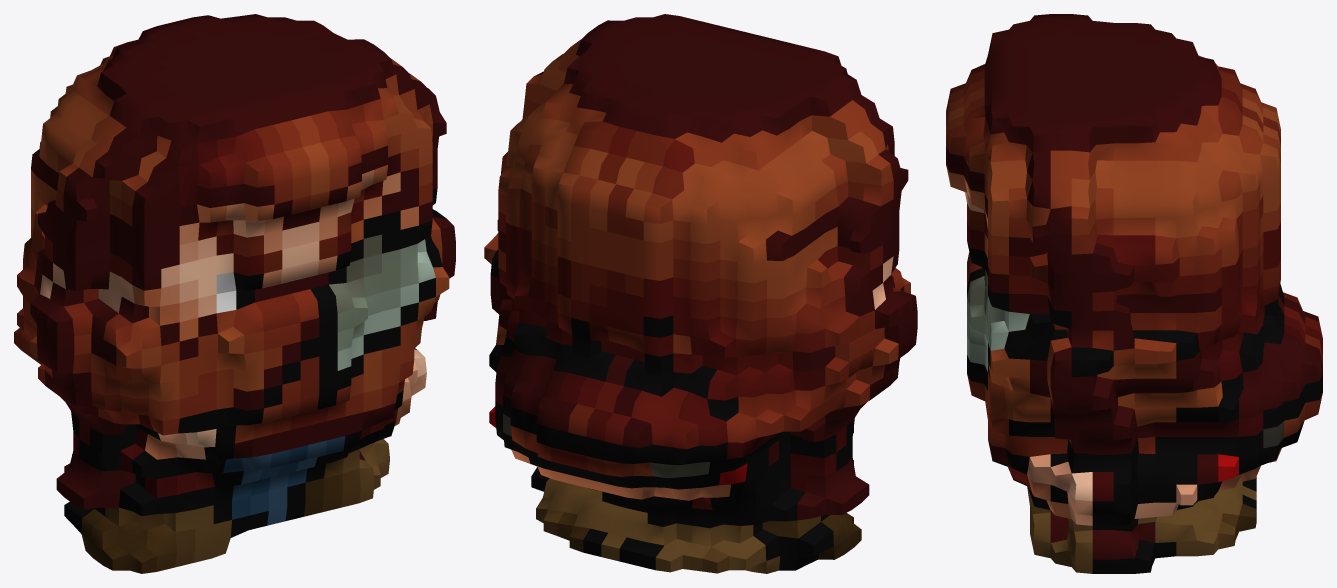
File: Icon_016_03.obj
3 renders of one model, left to right at view 1: azimuth 30°, elevation 25°; view 2: azimuth 150°, elevation 25°; view 3: azimuth 270°, elevation 25°, orthographic.
Bounding box in the file's own units: 2.2 × 2.4 × 1.8.
Materials: 1 (1 with a texture image).
